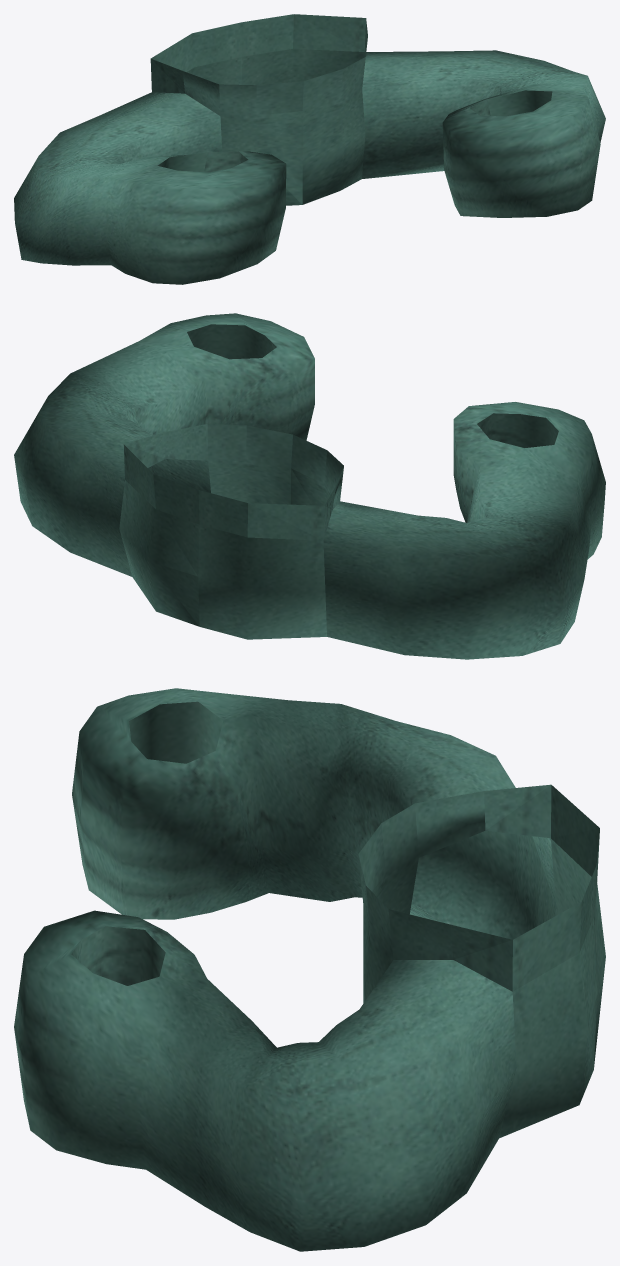
File: boss2.FBX
The picture shows the model from 3 angles, top to bottom: view 1: azimuth 30°, elevation 25°; view 2: azimuth 150°, elevation 25°; view 3: azimuth 270°, elevation 25°; orthographic projection. The views are drawn at different scales.
Parts seen in each view (by area): view 1: boss002; view 2: boss002; view 3: boss002.
Boxes of the visible parts, x1=… form: boss002: x1=14, y1=14, x2=605, y2=284; boss002: x1=14, y1=313, x2=605, y2=659; boss002: x1=14, y1=688, x2=605, y2=1251.
Bounding box in the file's own units: 1162 × 292 × 696.
